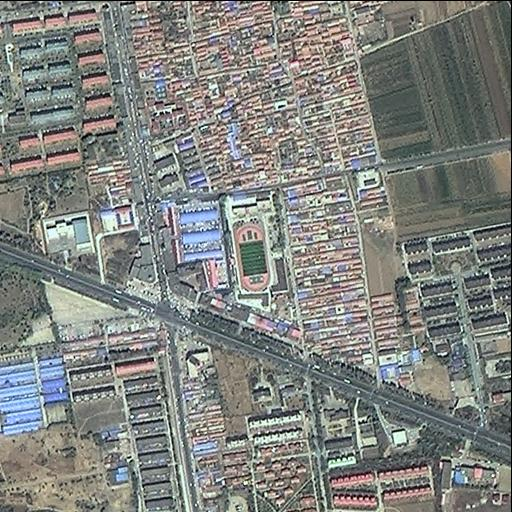school: (219, 185, 294, 323)
